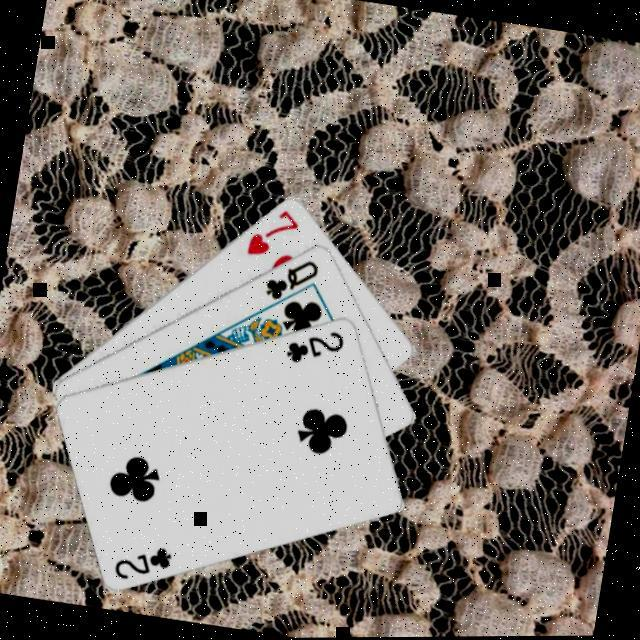2C: (112, 535, 178, 587), (284, 320, 351, 371)
7H: (244, 200, 306, 264)
QC: (262, 249, 326, 307)
